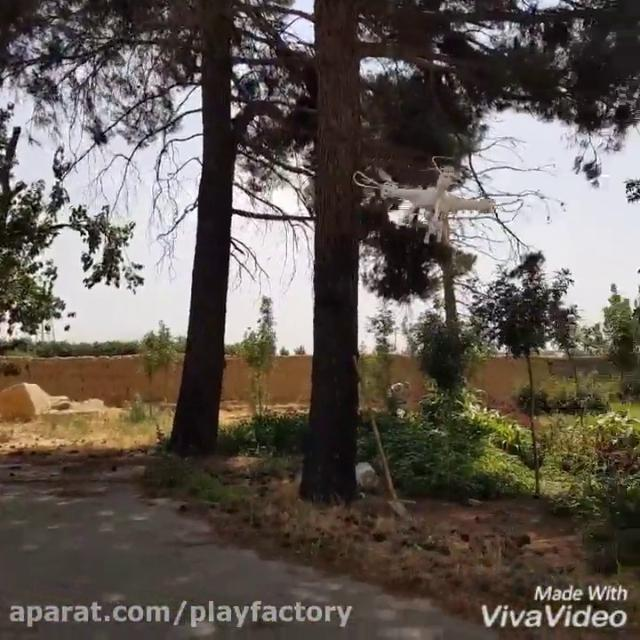drone: (352, 155, 500, 245)
